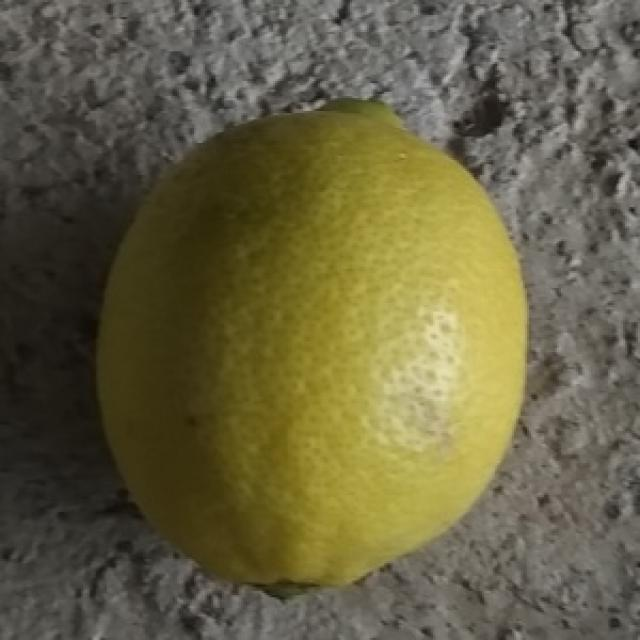Lemon: (94, 91, 534, 599)
